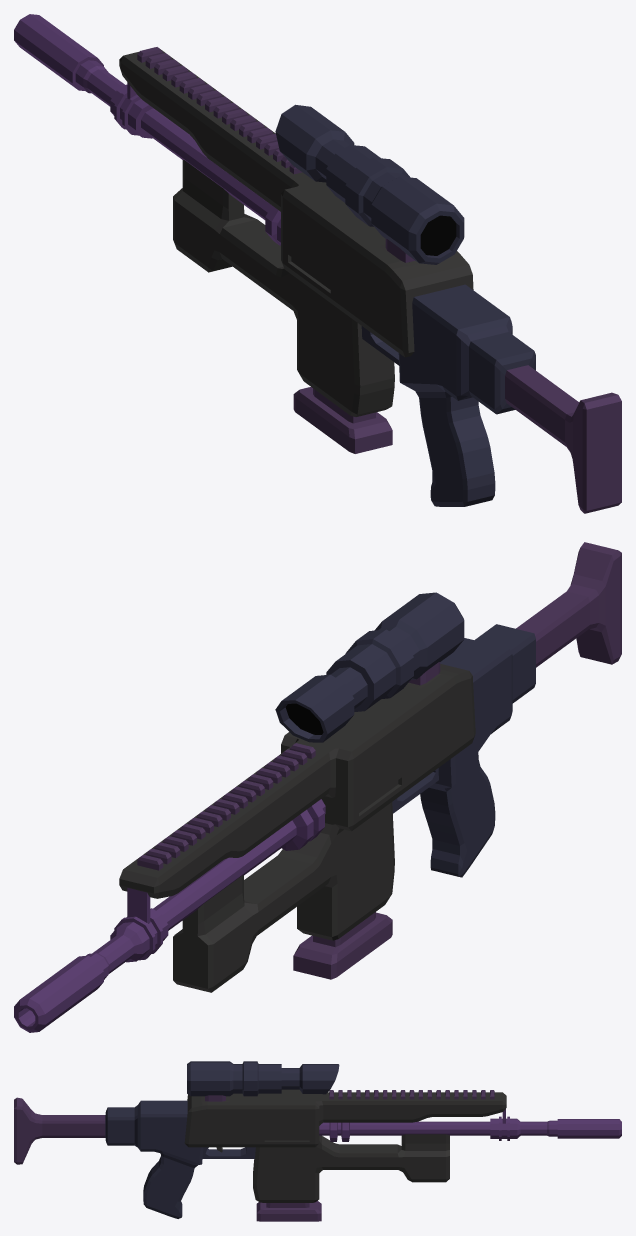
Rendered from Rifle.glb.
The picture shows the model from 3 angles, top to bottom: view 1: azimuth 30°, elevation 25°; view 2: azimuth 150°, elevation 25°; view 3: azimuth 270°, elevation 25°; orthographic projection. The views are drawn at different scales.
Visible parts, largest first — view 1: Rifle; view 2: Rifle; view 3: Rifle.
Boxes of the visible parts, <box> form: Rifle: <box>14,14,621,513</box>; Rifle: <box>14,542,621,1032</box>; Rifle: <box>14,1061,621,1221</box>.
Size of the model in its own units: 0.6304 by 2.47 by 8.85.
